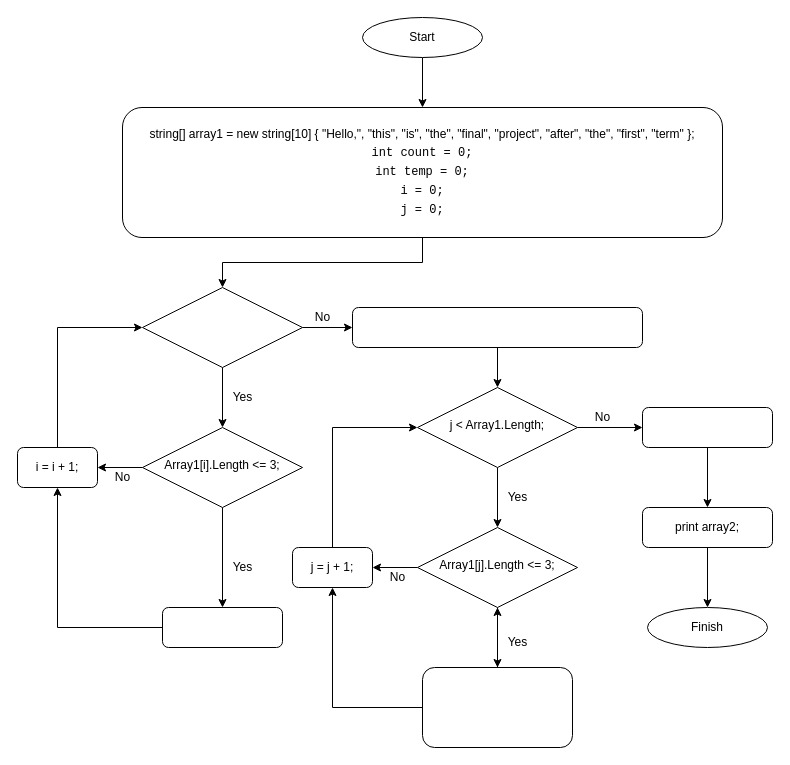
Some shapes in this 790 by 765 pixel diagram are drawn without their labels. Each missing label, with the centre of its shape:
array2[temp] = Array1[j]; temp = temp + 1;: (x=497, y=707)
count = count + 1;: (x=222, y=627)
i < Array1.Length;: (x=222, y=327)
return array2;: (x=707, y=427)
string[] array2 = new string[count];: (x=497, y=327)
